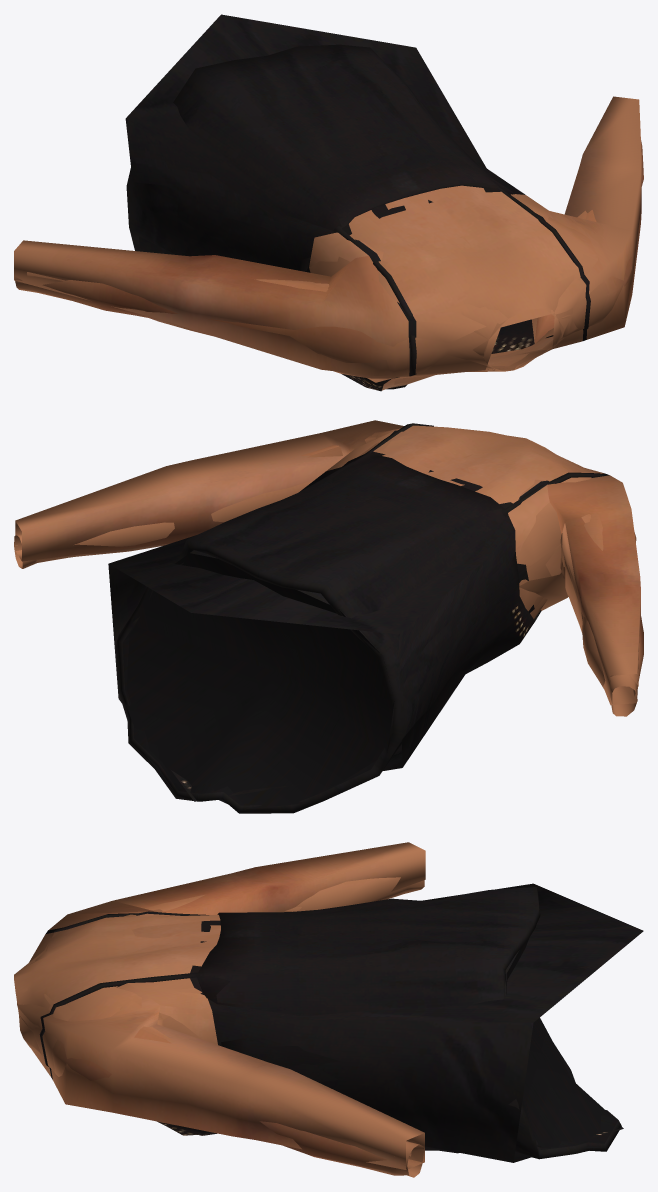
Rendered from uppr_002_r.obj.
3 views of the same model, one above another, from view 1: azimuth 30°, elevation 25°; view 2: azimuth 150°, elevation 25°; view 3: azimuth 270°, elevation 25° (orthographic).
Parts seen in each view (by area): view 1: uppr_002_r_low_1, uppr_002_r_high_1, uppr_002_r_med_1; view 2: uppr_002_r_med_1, uppr_002_r_low_1, uppr_002_r_high_1; view 3: uppr_002_r_low_1, uppr_002_r_high_1, uppr_002_r_med_1.
Boxes of the visible parts, box(x1,y1,x2,y2) form: uppr_002_r_low_1: box(14, 14, 641, 382); uppr_002_r_high_1: box(14, 44, 643, 391); uppr_002_r_med_1: box(27, 71, 628, 390); uppr_002_r_med_1: box(36, 431, 638, 809); uppr_002_r_low_1: box(15, 420, 640, 801); uppr_002_r_high_1: box(14, 423, 643, 813); uppr_002_r_low_1: box(17, 842, 643, 1169); uppr_002_r_high_1: box(14, 877, 621, 1177); uppr_002_r_med_1: box(15, 899, 609, 1156).
Bounding box in the file's own units: 0.9141 × 0.3047 × 0.8135.
